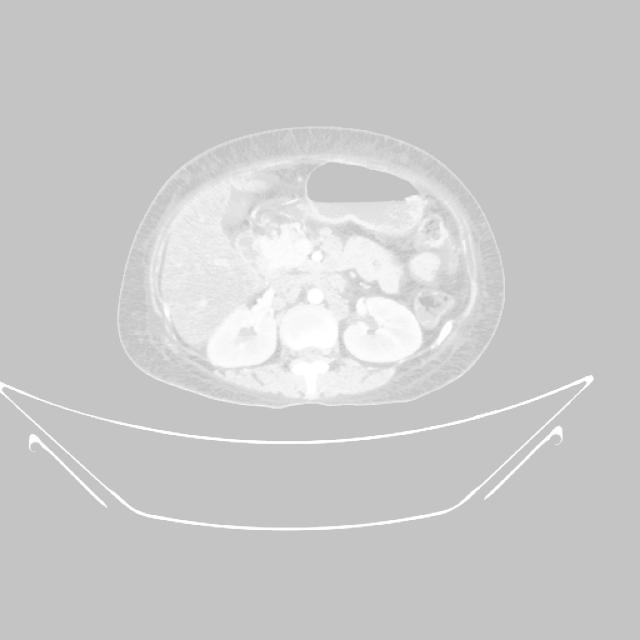NORMAL: (105, 138, 501, 398)
